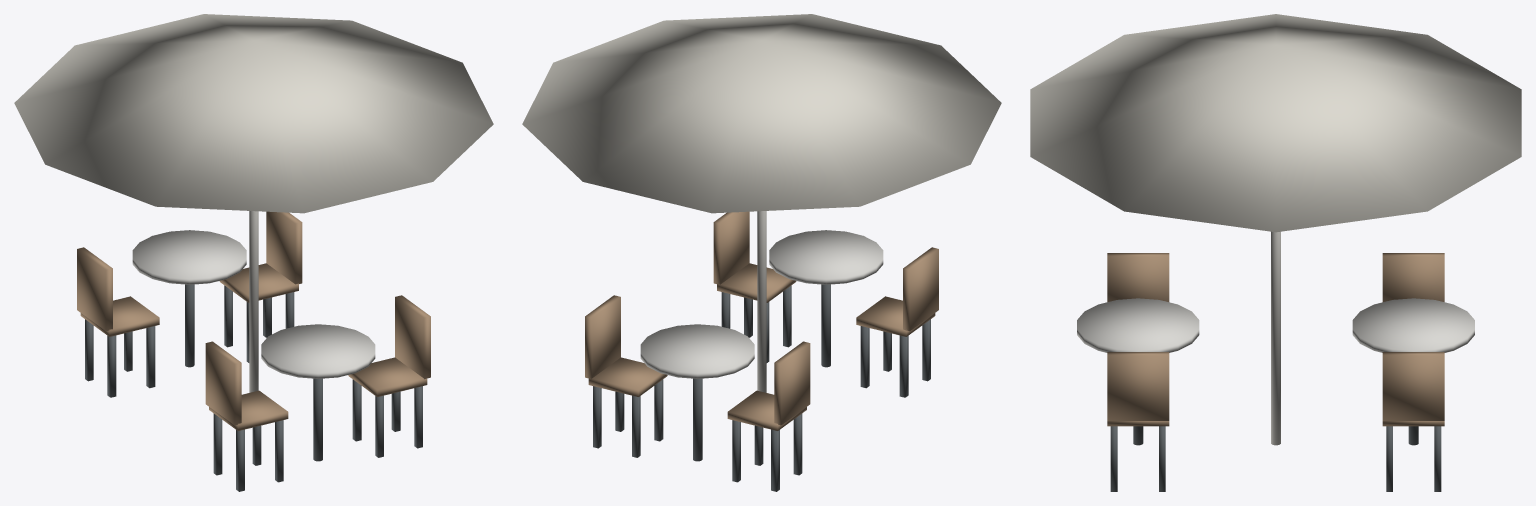
Rendered from cafe_set.glb.
3 views of the same model, side by side, from view 1: azimuth 30°, elevation 25°; view 2: azimuth 150°, elevation 25°; view 3: azimuth 270°, elevation 25° (orthographic). The views are drawn at different scales.
Visible parts, largest first — view 1: cafe_set; view 2: cafe_set; view 3: cafe_set.
Boxes of the visible parts, <box> form: cafe_set: <box>14,14,493,491</box>; cafe_set: <box>522,14,1001,491</box>; cafe_set: <box>1030,14,1521,491</box>.
Bounding box in the file's own units: 3 × 2.55 × 2.85.
